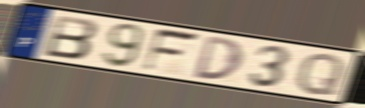3: (247, 45, 294, 89)
9: (99, 23, 147, 69)
B: (42, 13, 100, 61)
D: (192, 34, 244, 82)
F: (139, 27, 203, 75)
Q: (294, 51, 347, 97)
